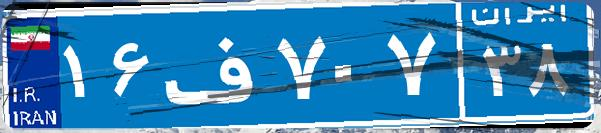0: (330, 28, 385, 110)
1: (57, 26, 110, 107)
3: (475, 38, 525, 113)
6: (110, 28, 158, 105)
7: (385, 28, 445, 110), (273, 28, 330, 110)
8: (525, 38, 570, 115)
ف: (158, 15, 273, 115)
